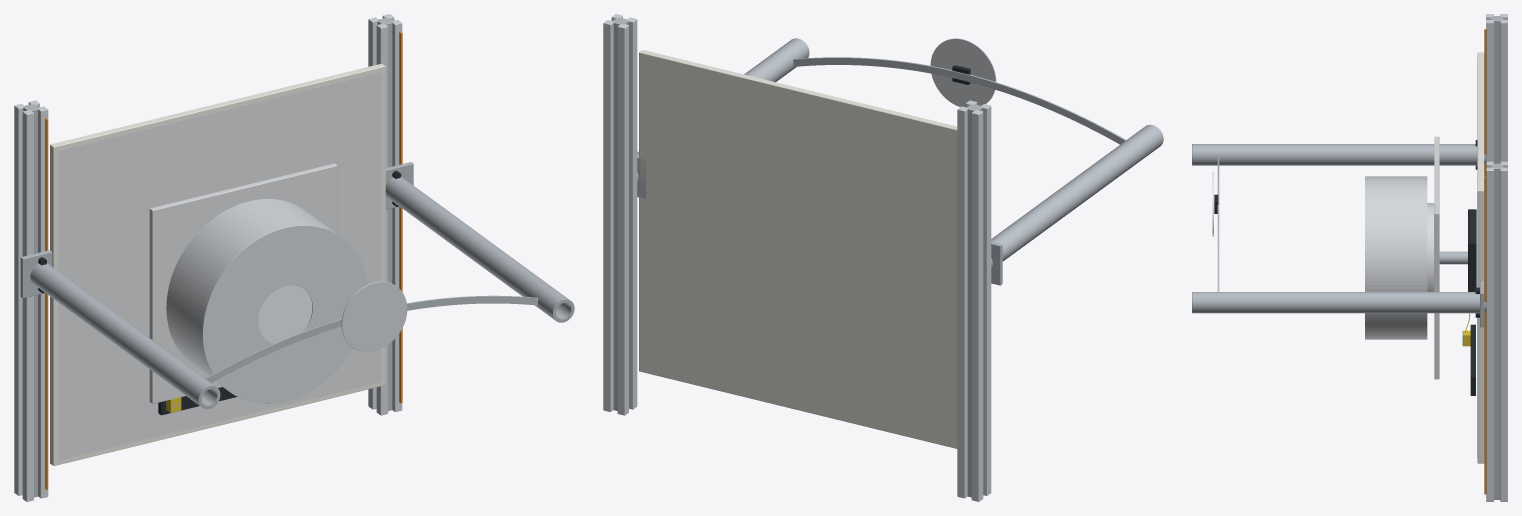
Rendered from prepared_cooler_black.glb.
3 renders of one model, left to right at view 1: azimuth 30°, elevation 25°; view 2: azimuth 150°, elevation 25°; view 3: azimuth 270°, elevation 25°, orthographic. The views are drawn at different scales.
Visible parts, largest first — view 1: COOLER_BLACK__mylar_base, COOLER_BLACK__aperture_plate, COOLER_BLACK__lift_plate, COOLER_BLACK__radiation_shield, COOLER_BLACK__acrylic_base, COOLER_BLACK__upright_-0.1625, COOLER_BLACK__upright_0.1625, COOLER_BLACK__rail_-0.1625_flange_-1_1, COOLER_BLACK__solar_reflector, COOLER_BLACK__rail_-0.1625_flange_-1_-1, COOLER_BLACK__rail_-0.1625_flange_1_1, COOLER_BLACK__rail_0.1625_flange_1_1 (+9 smaller); view 2: COOLER_BLACK__acrylic_base, COOLER_BLACK__upright_-0.1625, COOLER_BLACK__rail_-0.1625_flange_-1_-1, COOLER_BLACK__rail_0.1625_flange_-1_-1, COOLER_BLACK__rail_-0.1625_flange_1_-1, COOLER_BLACK__rail_0.1625_flange_1_-1, COOLER_BLACK__rail_0.1625_flange_-1_1, COOLER_BLACK__rail_-0.1625_flange_-1_1, COOLER_BLACK__solar_reflector, COOLER_BLACK__reflector_track, COOLER_BLACK__rail_0.1625_core, COOLER_BLACK__rail_-0.1625_core (+1 smaller); view 3: COOLER_BLACK__radiation_shield, COOLER_BLACK__upright_0.1625, COOLER_BLACK__upright_-0.1625, COOLER_BLACK__acrylic_base, COOLER_BLACK__rail_0.1625_flange_1_-1, COOLER_BLACK__rail_0.1625_flange_1_1, COOLER_BLACK__rail_0.1625_core, COOLER_BLACK__lift_plate, COOLER_BLACK__rail_-0.1625_flange_1_1, COOLER_BLACK__rail_-0.1625_flange_1_-1, COOLER_BLACK__rail_-0.1625_core, COOLER_BLACK__orange_insert_0.1625 (+7 smaller).
Boxes of the visible parts, <box> form: COOLER_BLACK__mylar_base: <box>58,72,381,460</box>; COOLER_BLACK__aperture_plate: <box>202,225,367,403</box>; COOLER_BLACK__lift_plate: <box>149,163,337,403</box>; COOLER_BLACK__radiation_shield: <box>166,199,336,388</box>; COOLER_BLACK__acrylic_base: <box>50,63,385,465</box>; COOLER_BLACK__upright_-0.1625: <box>30,263,220,409</box>; COOLER_BLACK__upright_0.1625: <box>385,177,574,322</box>; COOLER_BLACK__rail_-0.1625_flange_-1_1: <box>22,110,33,501</box>; COOLER_BLACK__solar_reflector: <box>341,281,407,351</box>; COOLER_BLACK__rail_-0.1625_flange_-1_-1: <box>14,104,24,495</box>; COOLER_BLACK__rail_-0.1625_flange_1_1: <box>38,106,48,498</box>; COOLER_BLACK__rail_0.1625_flange_1_1: <box>392,20,402,411</box>; COOLER_BLACK__acrylic_base: <box>639,50,957,448</box>; COOLER_BLACK__upright_-0.1625: <box>991,124,1163,268</box>; COOLER_BLACK__rail_-0.1625_flange_-1_-1: <box>971,110,983,501</box>; COOLER_BLACK__rail_0.1625_flange_-1_-1: <box>617,24,628,415</box>; COOLER_BLACK__rail_-0.1625_flange_1_-1: <box>957,106,967,498</box>; COOLER_BLACK__rail_0.1625_flange_1_-1: <box>603,20,613,411</box>; COOLER_BLACK__rail_0.1625_flange_-1_1: <box>626,17,637,409</box>; COOLER_BLACK__rail_-0.1625_flange_-1_1: <box>981,104,991,495</box>; COOLER_BLACK__solar_reflector: <box>930,38,996,106</box>; COOLER_BLACK__reflector_track: <box>793,57,1125,144</box>; COOLER_BLACK__rail_0.1625_core: <box>613,17,628,410</box>; COOLER_BLACK__rail_-0.1625_core: <box>967,104,982,497</box>; COOLER_BLACK__radiation_shield: <box>1366,176,1427,339</box>; COOLER_BLACK__upright_0.1625: <box>1192,292,1486,313</box>; COOLER_BLACK__upright_-0.1625: <box>1192,144,1486,165</box>; COOLER_BLACK__acrylic_base: <box>1477,52,1484,463</box>; COOLER_BLACK__rail_0.1625_flange_1_-1: <box>1500,167,1507,501</box>; COOLER_BLACK__rail_0.1625_flange_1_1: <box>1486,167,1493,501</box>; COOLER_BLACK__rail_0.1625_core: <box>1491,163,1502,499</box>; COOLER_BLACK__lift_plate: <box>1434,136,1439,379</box>; COOLER_BLACK__rail_-0.1625_flange_1_1: <box>1486,20,1493,161</box>; COOLER_BLACK__rail_-0.1625_flange_1_-1: <box>1500,20,1507,161</box>; COOLER_BLACK__rail_-0.1625_core: <box>1491,16,1502,163</box>; COOLER_BLACK__orange_insert_0.1625: <box>1484,176,1486,494</box>.
Size of the model in its own units: 0.359 by 0.34 by 0.2935.
